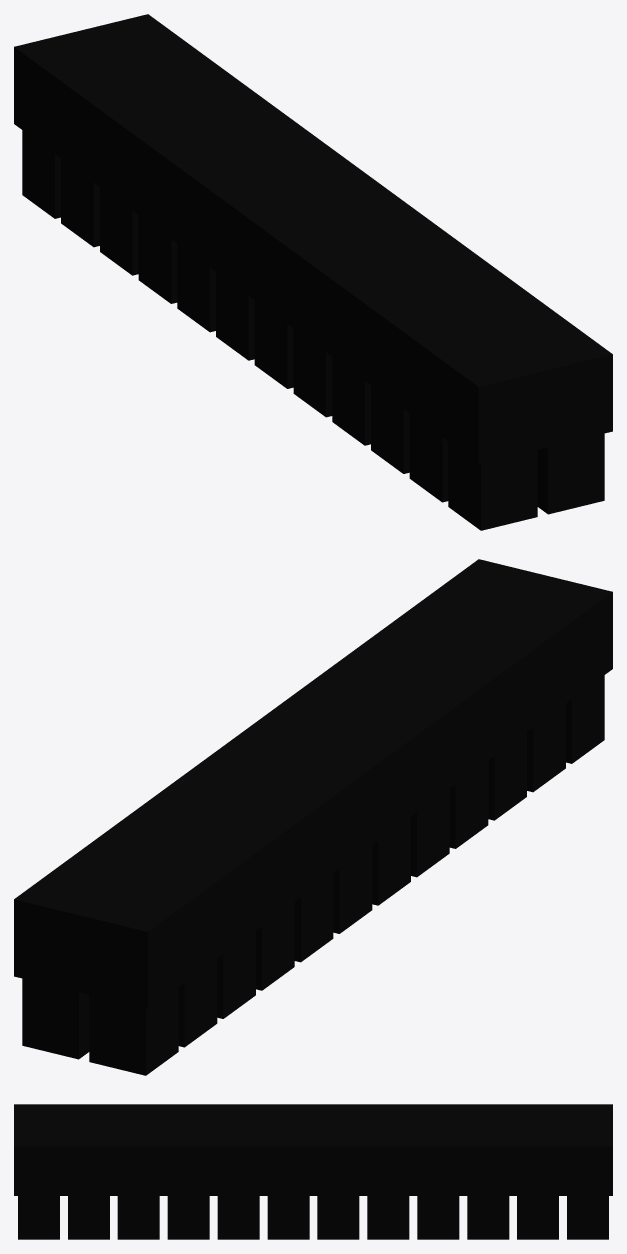
File: 24Pines.fbx
3 views of the same model, one above another, from view 1: azimuth 30°, elevation 25°; view 2: azimuth 150°, elevation 25°; view 3: azimuth 270°, elevation 25° (orthographic). The views are drawn at different scales.
Visible parts, largest first — view 1: Conector24Pines; view 2: Conector24Pines; view 3: Conector24Pines.
Part boxes in pixels (x1,y1,x2,y2): Conector24Pines: (14, 14, 612, 530); Conector24Pines: (14, 559, 612, 1075); Conector24Pines: (14, 1104, 612, 1239).
Bounding box in the file's own units: 200 × 210 × 1200.
Materials: 1 (1 with a texture image).
